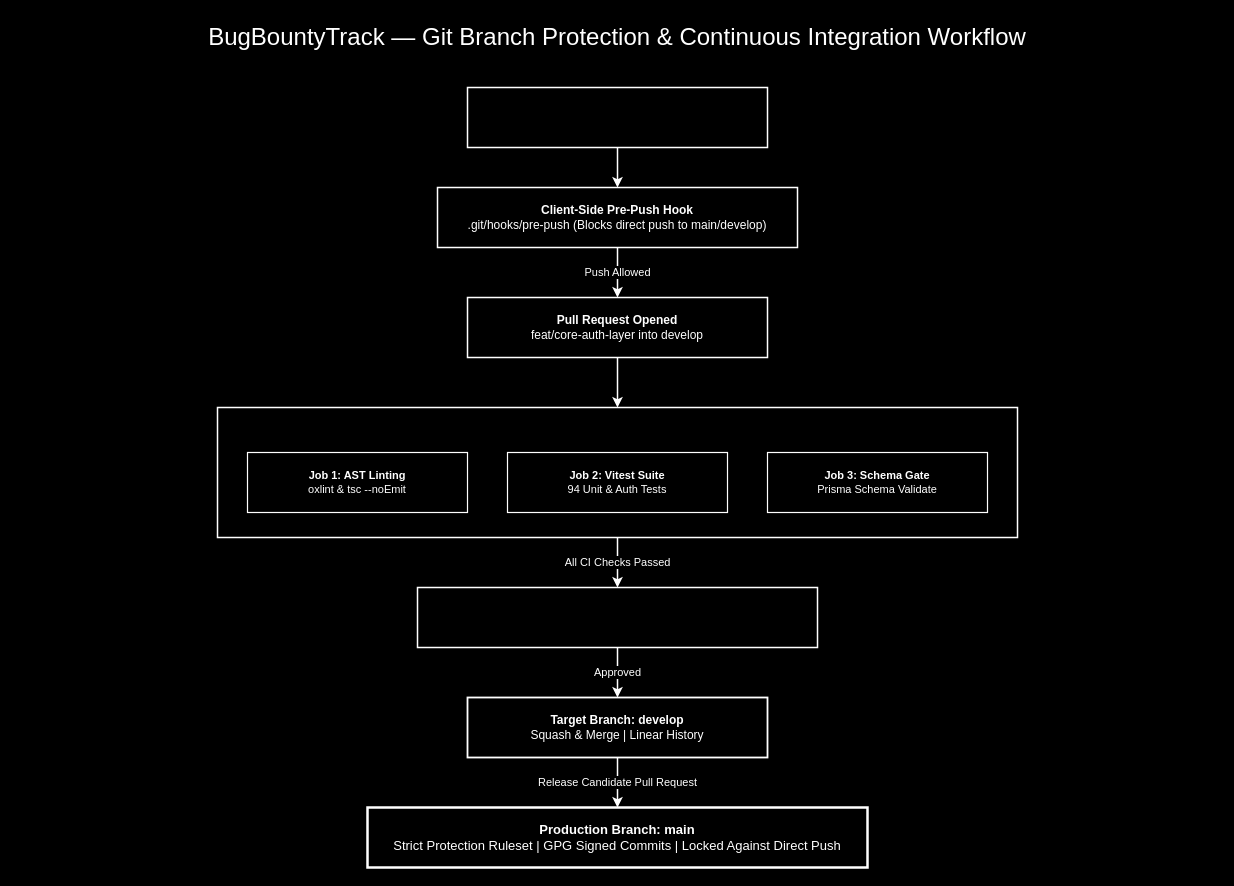
The diagram is 1234 pixels wide and 886 high, and some of its shapes have lost their labels. The shapes that lost their labels are listed below. From the top down, each one's box as (x1, y1, x2, y2) in pixels, then its label:
(466, 86, 768, 148): Developer Workstation Branch: feat/core-auth-layer
(216, 406, 1018, 538): GitHub Actions CI Gates
(416, 586, 818, 648): Peer Code Review Gate CODEOWNERS Approval Required | Stale Approvals Dismissed
